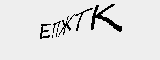Е: (34, 21, 49, 39)
Ж: (57, 14, 72, 38)
К: (89, 2, 123, 32)
П: (50, 19, 61, 37)
Т: (72, 7, 90, 35)
